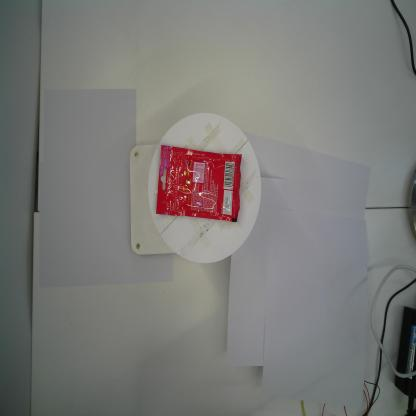Candy: (155, 142, 242, 224)
